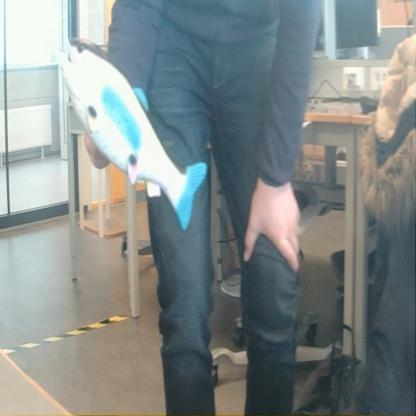rubberfish: (53, 26, 211, 237)
